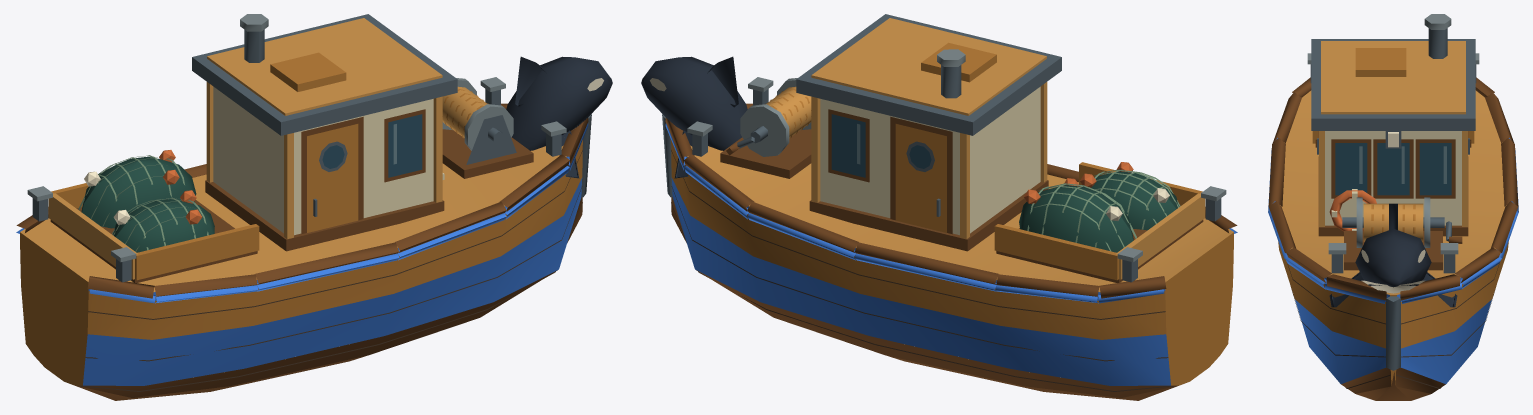
The picture shows the model from 3 angles, left to right: view 1: azimuth 30°, elevation 25°; view 2: azimuth 150°, elevation 25°; view 3: azimuth 270°, elevation 25°; orthographic projection. The views are drawn at different scales.
Visible parts, largest first — view 1: BOOM 海战 · 渔船; view 2: BOOM 海战 · 渔船; view 3: BOOM 海战 · 渔船.
Boxes of the visible parts, bbox=[...] form: BOOM 海战 · 渔船: bbox=[16, 14, 612, 400]; BOOM 海战 · 渔船: bbox=[641, 14, 1237, 400]; BOOM 海战 · 渔船: bbox=[1268, 14, 1518, 400].
Bounding box in the file's own units: 1.2 × 0.666 × 0.506.
